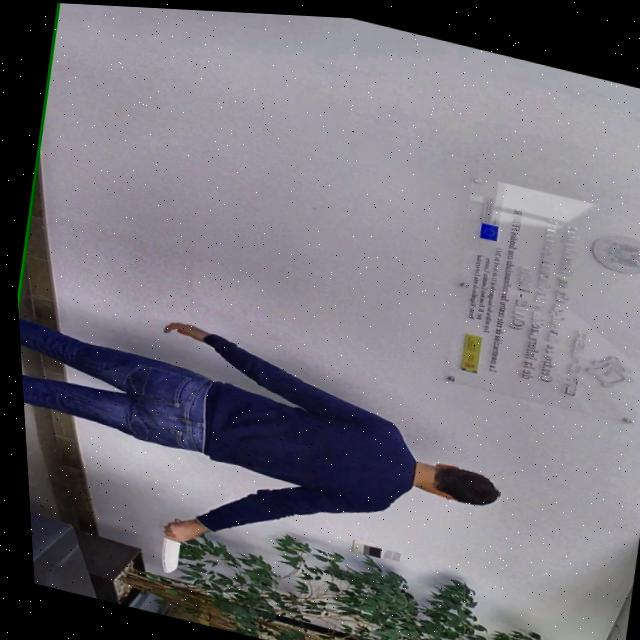knife: (146, 533, 185, 580)
